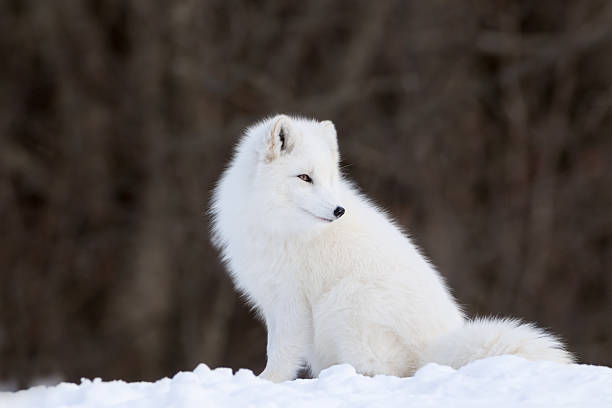arcticfox: (265, 128, 359, 253)
